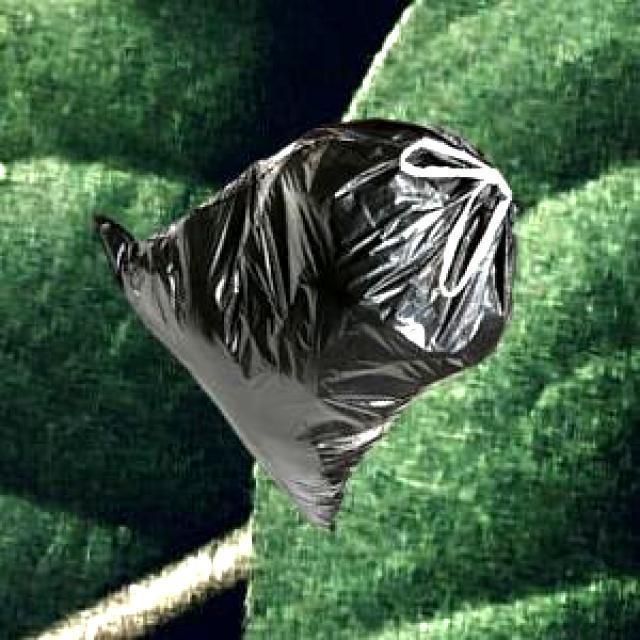Garbage_Bag: (90, 116, 516, 530)
